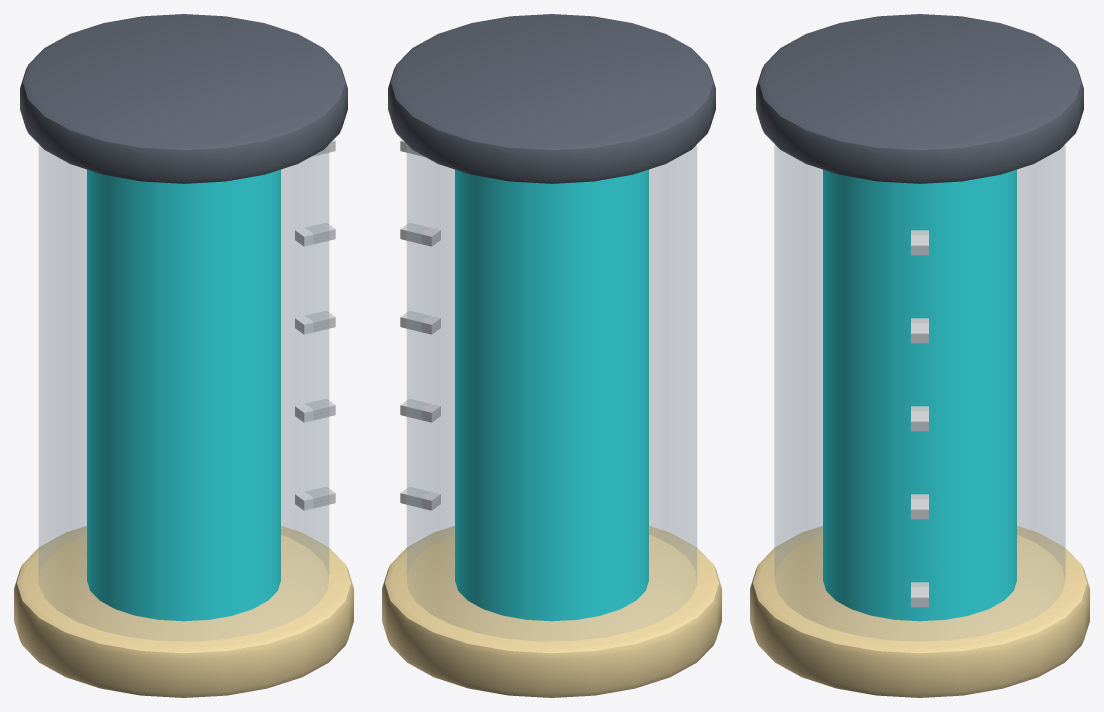
File: pressure_column.glb
3 views of the same model, side by side, from view 1: azimuth 30°, elevation 25°; view 2: azimuth 150°, elevation 25°; view 3: azimuth 270°, elevation 25° (orthographic).
Visible parts, largest first — view 1: Cylinder; view 2: Cylinder; view 3: Cylinder.
Boxes of the visible parts, x1,y1,x2,y2 form: Cylinder: [14, 14, 353, 697]; Cylinder: [382, 14, 721, 697]; Cylinder: [750, 14, 1089, 697].
Size of the model in its own units: 0.56 by 1 by 0.56.
